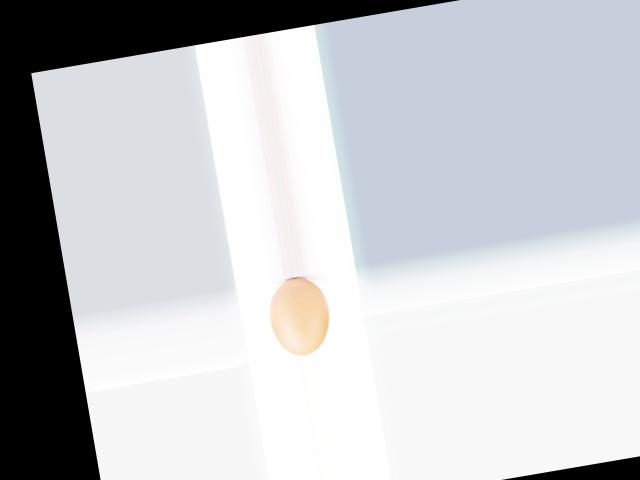egg: (264, 273, 335, 359)
